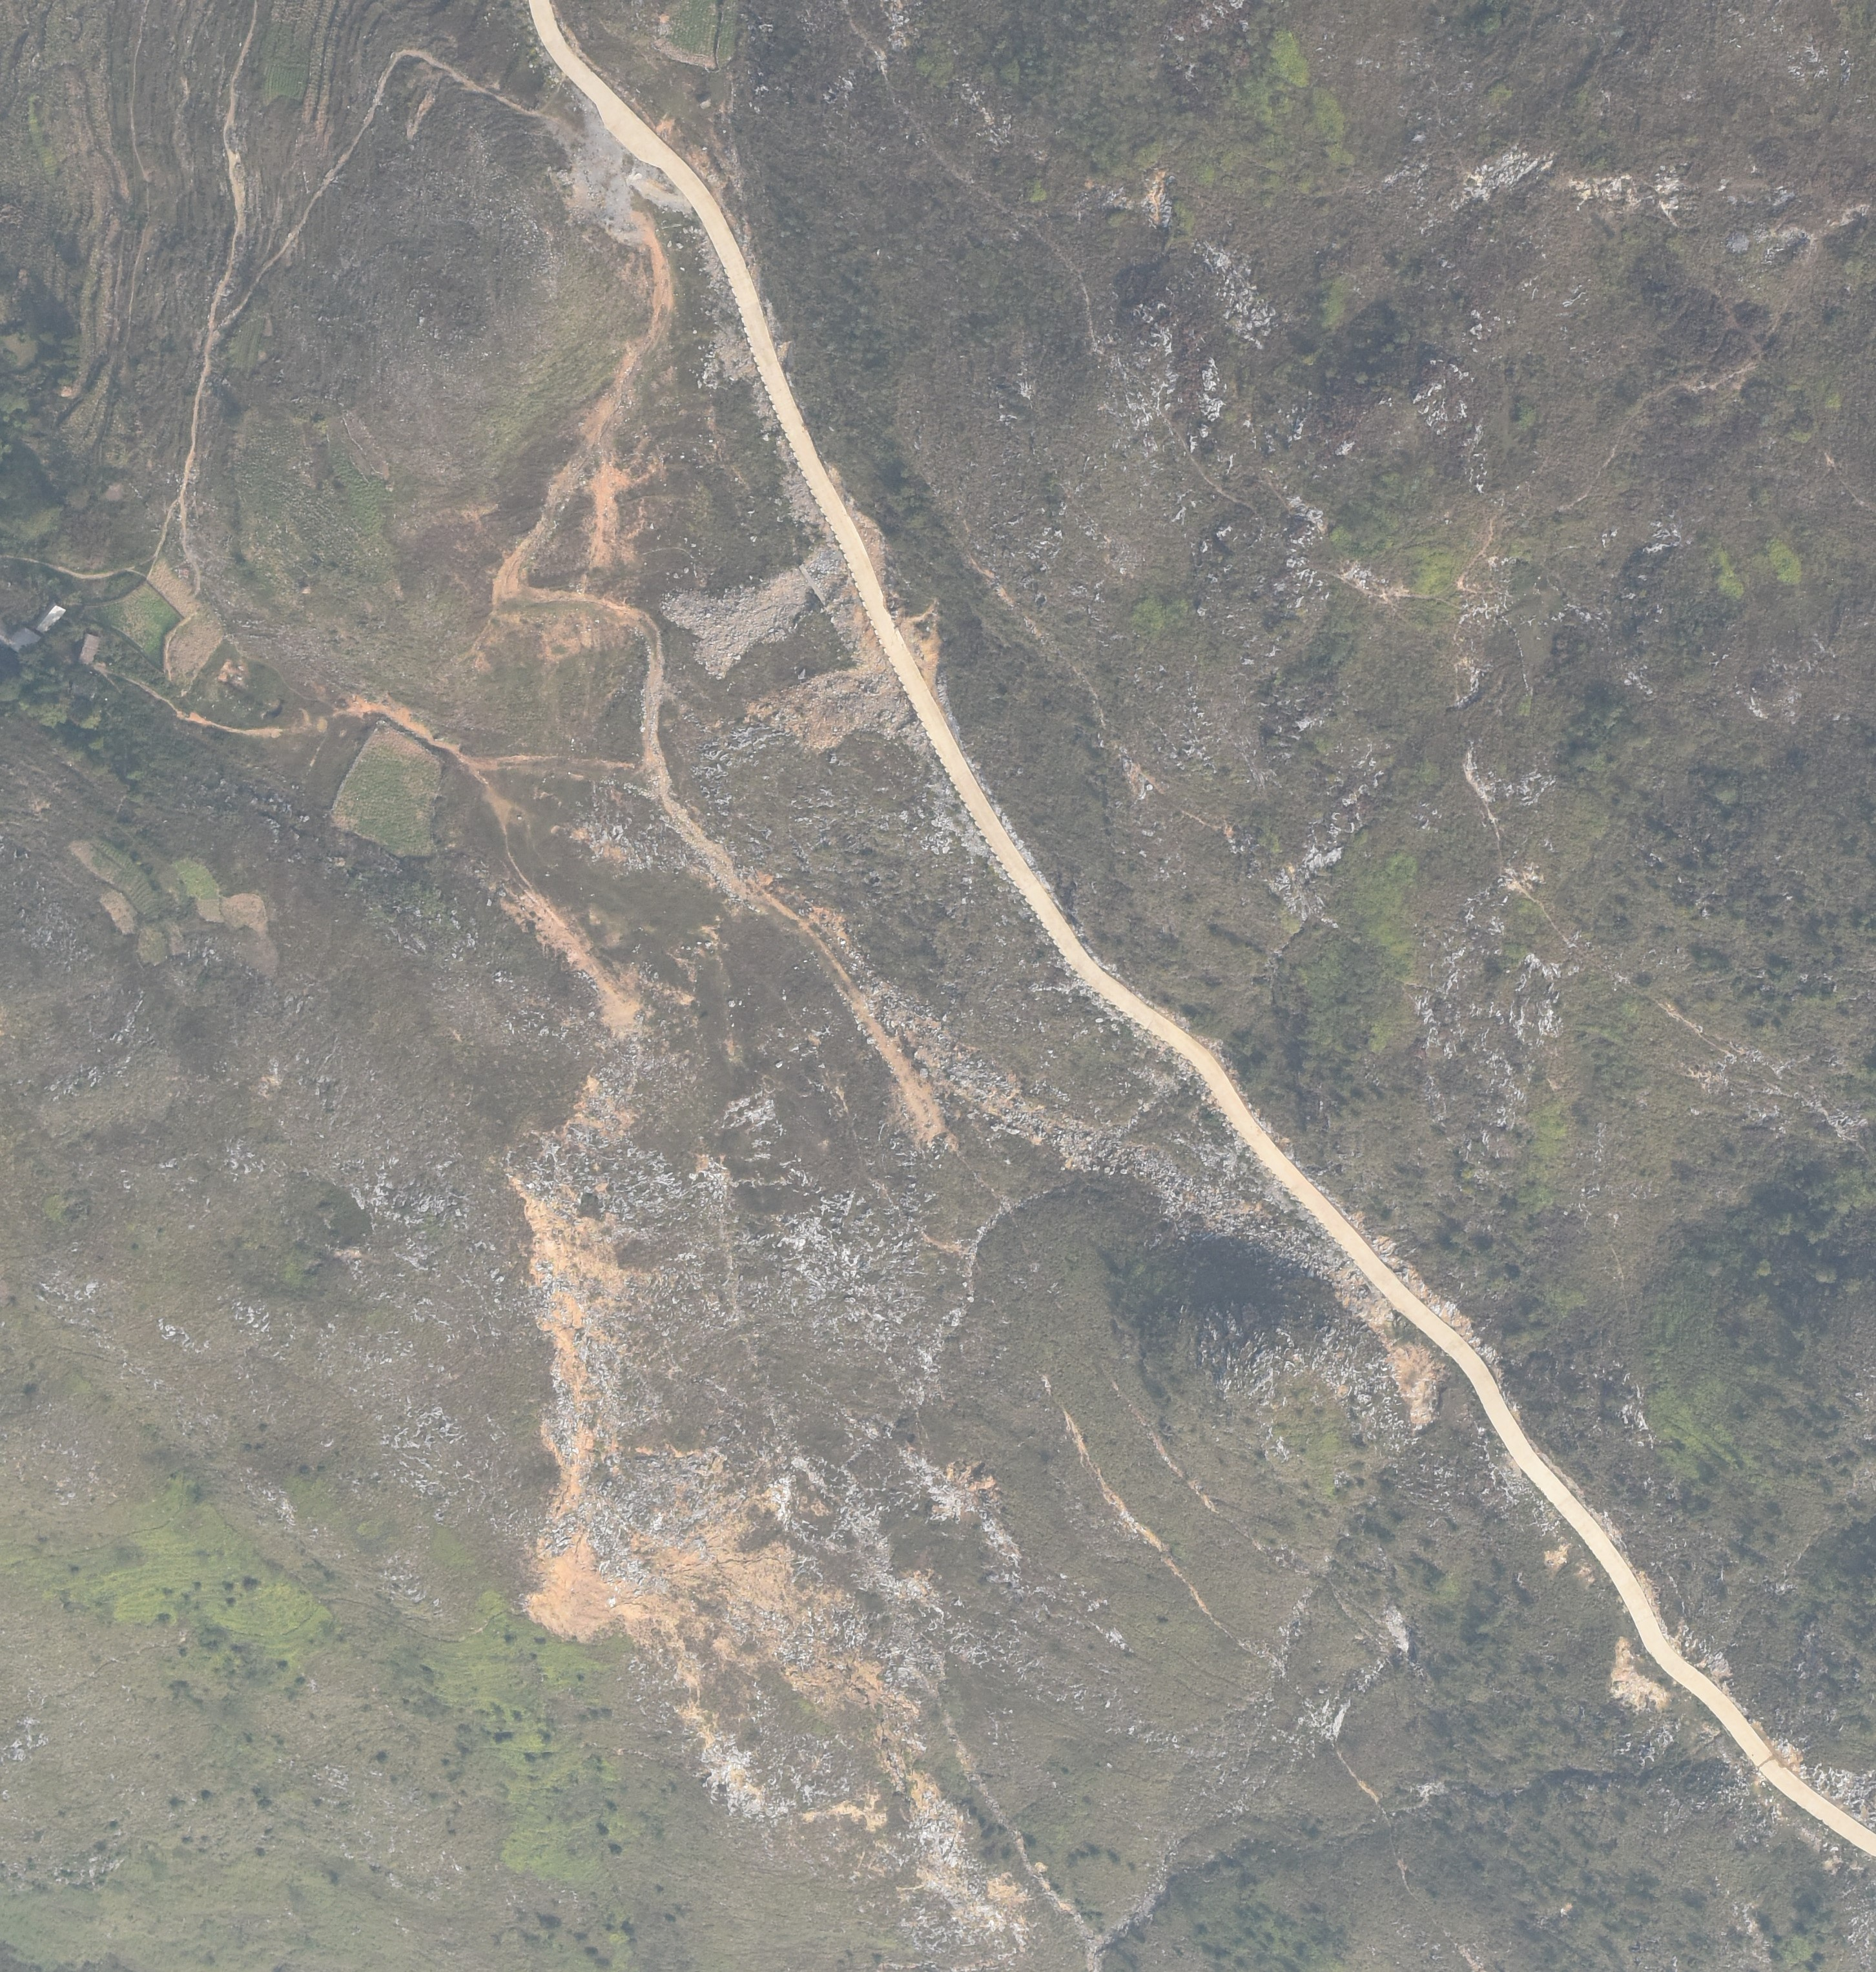landslide: (507, 1185, 909, 1711), (497, 218, 696, 650)
